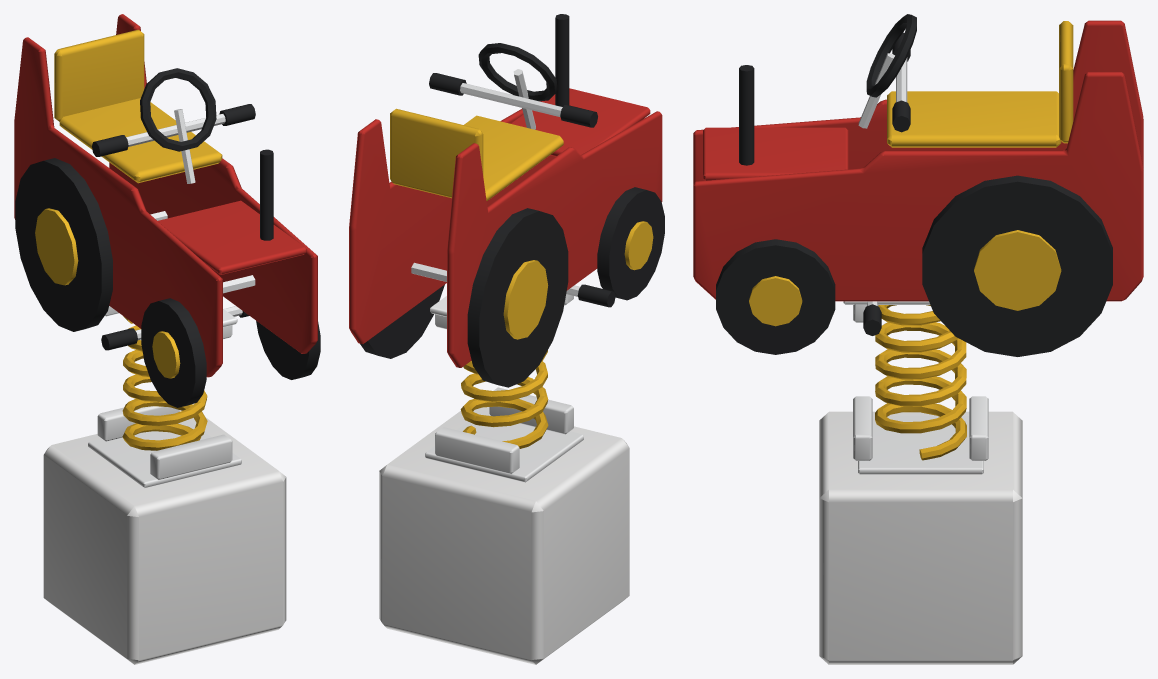
The model's file is spring_rider_tractor.glb.
3 renders of one model, left to right at view 1: azimuth 30°, elevation 25°; view 2: azimuth 150°, elevation 25°; view 3: azimuth 270°, elevation 25°, orthographic. The views are drawn at different scales.
Parts seen in each view (by area): view 1: spring_rider_tractor_concrete, spring_rider_tractor_hdpe_red, spring_rider_tractor_hdpe_black, spring_rider_tractor_hdpe_yellow, spring_rider_tractor_steel_galv, spring_rider_tractor_paint_yellow, spring_rider_tractor_steel_stainless; view 2: spring_rider_tractor_concrete, spring_rider_tractor_hdpe_red, spring_rider_tractor_hdpe_black, spring_rider_tractor_hdpe_yellow, spring_rider_tractor_steel_galv, spring_rider_tractor_paint_yellow, spring_rider_tractor_steel_stainless; view 3: spring_rider_tractor_hdpe_red, spring_rider_tractor_concrete, spring_rider_tractor_hdpe_black, spring_rider_tractor_hdpe_yellow, spring_rider_tractor_paint_yellow, spring_rider_tractor_steel_galv, spring_rider_tractor_steel_stainless.
Boxes of the visible parts, bbox=[...] form: spring_rider_tractor_concrete: bbox=[43, 417, 286, 664]; spring_rider_tractor_hdpe_red: bbox=[14, 14, 317, 377]; spring_rider_tractor_hdpe_black: bbox=[15, 68, 320, 407]; spring_rider_tractor_hdpe_yellow: bbox=[35, 29, 222, 378]; spring_rider_tractor_steel_galv: bbox=[88, 306, 241, 487]; spring_rider_tractor_paint_yellow: bbox=[122, 316, 207, 450]; spring_rider_tractor_steel_stainless: bbox=[126, 109, 255, 340]; spring_rider_tractor_concrete: bbox=[379, 407, 629, 664]; spring_rider_tractor_hdpe_red: bbox=[349, 88, 662, 367]; spring_rider_tractor_hdpe_black: bbox=[360, 14, 664, 387]; spring_rider_tractor_hdpe_yellow: bbox=[390, 108, 653, 339]; spring_rider_tractor_steel_galv: bbox=[425, 294, 583, 482]; spring_rider_tractor_paint_yellow: bbox=[460, 350, 548, 448]; spring_rider_tractor_steel_stainless: bbox=[411, 69, 579, 296]; spring_rider_tractor_hdpe_red: bbox=[693, 20, 1143, 301]; spring_rider_tractor_concrete: bbox=[819, 411, 1022, 664]; spring_rider_tractor_hdpe_black: bbox=[716, 14, 1112, 356]; spring_rider_tractor_hdpe_yellow: bbox=[749, 21, 1073, 326]; spring_rider_tractor_paint_yellow: bbox=[875, 305, 966, 460]; spring_rider_tractor_steel_galv: bbox=[843, 301, 988, 474]; spring_rider_tractor_steel_stainless: bbox=[858, 53, 907, 305].
Bounding box in the file's own units: 0.43 × 1.38 × 0.93.
